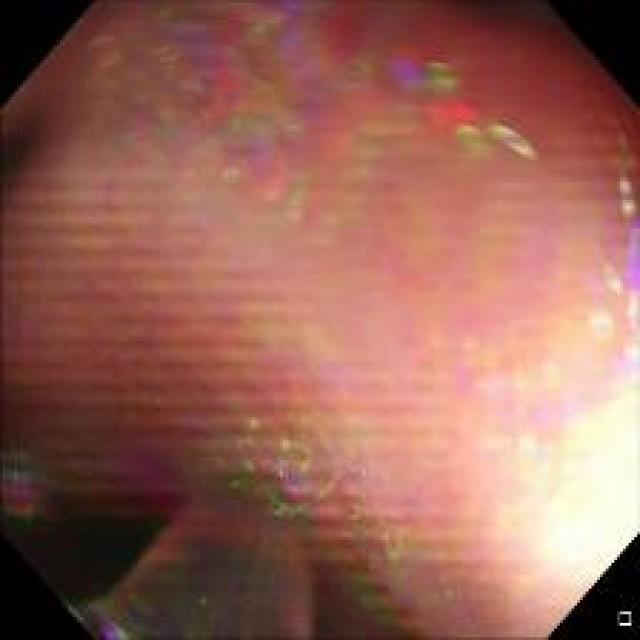color misalignment: (11, 6, 632, 635), (81, 12, 530, 224), (338, 470, 430, 628), (228, 419, 358, 518)
saturation: (512, 332, 630, 589)
